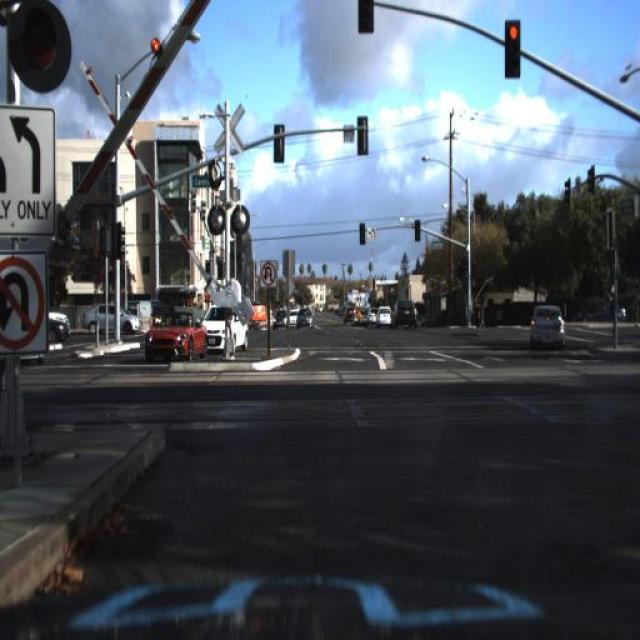car: (142, 306, 206, 360), (527, 290, 575, 362), (76, 302, 142, 342), (204, 304, 250, 352), (577, 286, 625, 326), (392, 294, 418, 336), (36, 316, 70, 346), (44, 323, 68, 357), (372, 296, 394, 328), (352, 299, 372, 330), (376, 300, 396, 330), (292, 304, 313, 332), (268, 306, 290, 332), (46, 310, 74, 330), (340, 298, 358, 326), (270, 308, 289, 331), (367, 294, 378, 330), (340, 297, 354, 325)
trafficLight: (605, 276, 621, 339), (612, 275, 626, 325)
trafficLight-Green: (0, 0, 106, 101), (503, 18, 521, 78), (356, 210, 372, 250), (412, 214, 422, 242)
trafficLight-GreenLeft: (459, 251, 470, 283)
trafficLight-RedLeft: (496, 12, 529, 87)
